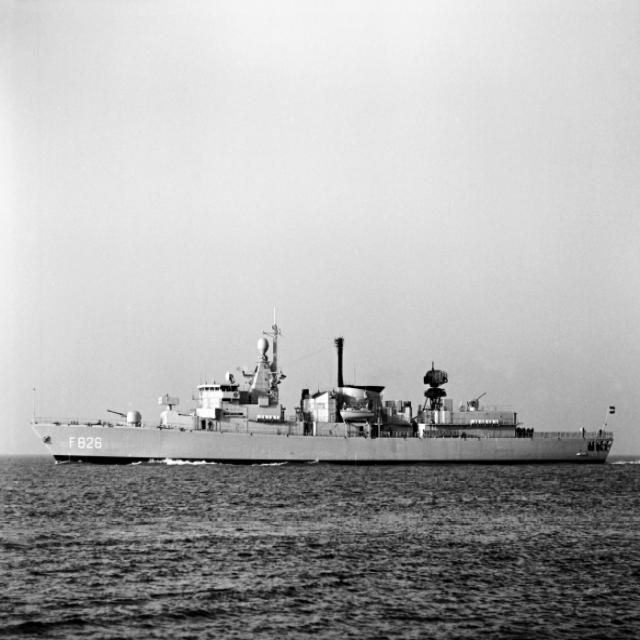Fragata: (29, 327, 617, 471)
